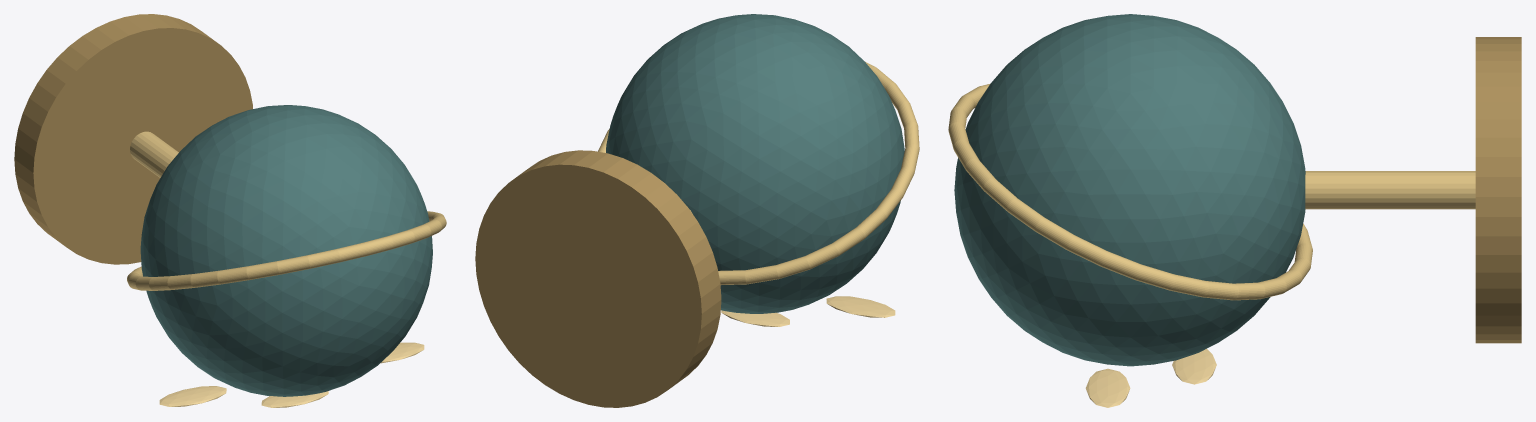
The model's file is prop_bottom_small_globe.glb.
3 renders of one model, left to right at view 1: azimuth 30°, elevation 25°; view 2: azimuth 150°, elevation 25°; view 3: azimuth 270°, elevation 25°, orthographic. The views are drawn at different scales.
Visible parts, largest first — view 1: prop_bottom_small_globe_muted_green_sphere, prop_bottom_small_globe_stand_base, prop_bottom_small_globe_tilted_brass_meridian, prop_bottom_small_globe_stand_stem, prop_bottom_small_globe_soft_gold_land_patch_3, prop_bottom_small_globe_soft_gold_land_patch_2, prop_bottom_small_globe_soft_gold_land_patch_1; view 2: prop_bottom_small_globe_muted_green_sphere, prop_bottom_small_globe_stand_base, prop_bottom_small_globe_tilted_brass_meridian, prop_bottom_small_globe_soft_gold_land_patch_3, prop_bottom_small_globe_soft_gold_land_patch_4; view 3: prop_bottom_small_globe_muted_green_sphere, prop_bottom_small_globe_stand_base, prop_bottom_small_globe_tilted_brass_meridian, prop_bottom_small_globe_stand_stem, prop_bottom_small_globe_soft_gold_land_patch_1, prop_bottom_small_globe_soft_gold_land_patch_5.
Boxes of the visible parts, left/top/right/bottom form: prop_bottom_small_globe_muted_green_sphere: left=140, top=105, right=432, bottom=396; prop_bottom_small_globe_stand_base: left=14, top=14, right=252, bottom=264; prop_bottom_small_globe_tilted_brass_meridian: left=127, top=211, right=446, bottom=290; prop_bottom_small_globe_stand_stem: left=130, top=131, right=178, bottom=177; prop_bottom_small_globe_soft_gold_land_patch_3: left=159, top=386, right=226, bottom=406; prop_bottom_small_globe_soft_gold_land_patch_2: left=261, top=391, right=328, bottom=407; prop_bottom_small_globe_soft_gold_land_patch_1: left=380, top=342, right=424, bottom=363; prop_bottom_small_globe_muted_green_sphere: left=606, top=14, right=904, bottom=313; prop_bottom_small_globe_stand_base: left=475, top=150, right=721, bottom=407; prop_bottom_small_globe_tilted_brass_meridian: left=598, top=61, right=919, bottom=284; prop_bottom_small_globe_soft_gold_land_patch_3: left=826, top=296, right=895, bottom=317; prop_bottom_small_globe_soft_gold_land_patch_4: left=721, top=310, right=789, bottom=326; prop_bottom_small_globe_muted_green_sphere: left=954, top=14, right=1305, bottom=366; prop_bottom_small_globe_stand_base: left=1475, top=37, right=1521, bottom=343; prop_bottom_small_globe_tilted_brass_meridian: left=948, top=84, right=1312, bottom=300; prop_bottom_small_globe_stand_stem: left=1305, top=171, right=1475, bottom=209; prop_bottom_small_globe_soft_gold_land_patch_1: left=1085, top=368, right=1130, bottom=407; prop_bottom_small_globe_soft_gold_land_patch_5: left=1172, top=348, right=1216, bottom=384.
Size of the model in its own units: 0.4195 by 0.3772 by 0.6132.
